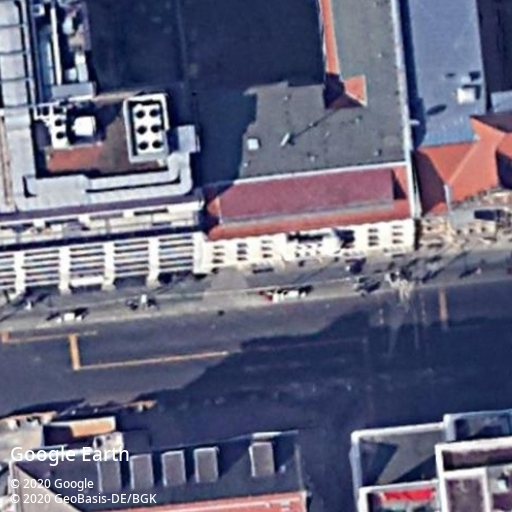Chiller: (132, 103, 165, 157), (50, 114, 68, 148)
